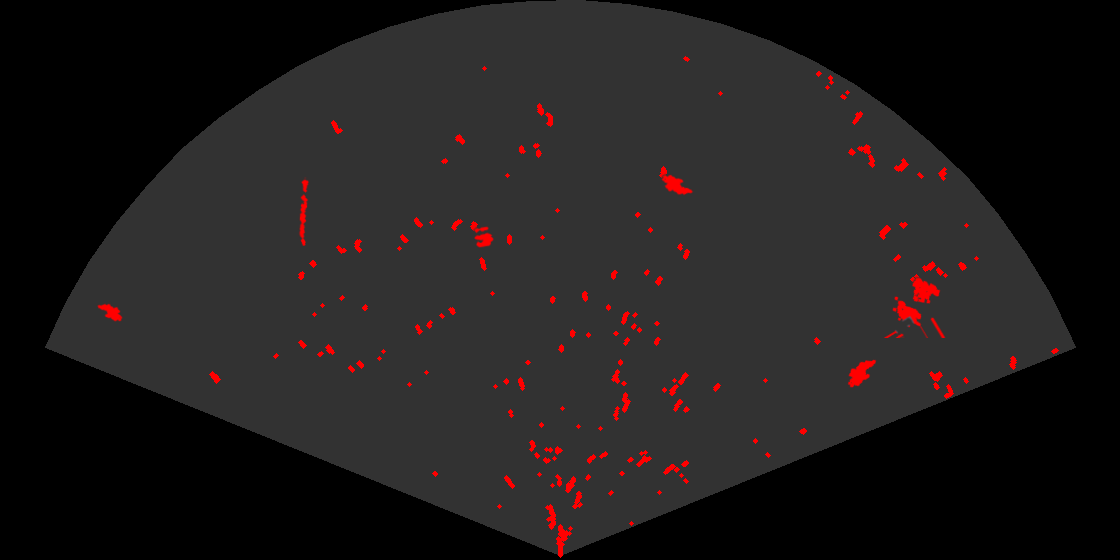AUV: (846, 358, 878, 389), (660, 173, 695, 197), (96, 301, 124, 323)
ball: (472, 225, 495, 249)
cage: (882, 276, 947, 338)
chain: (297, 177, 310, 246)
